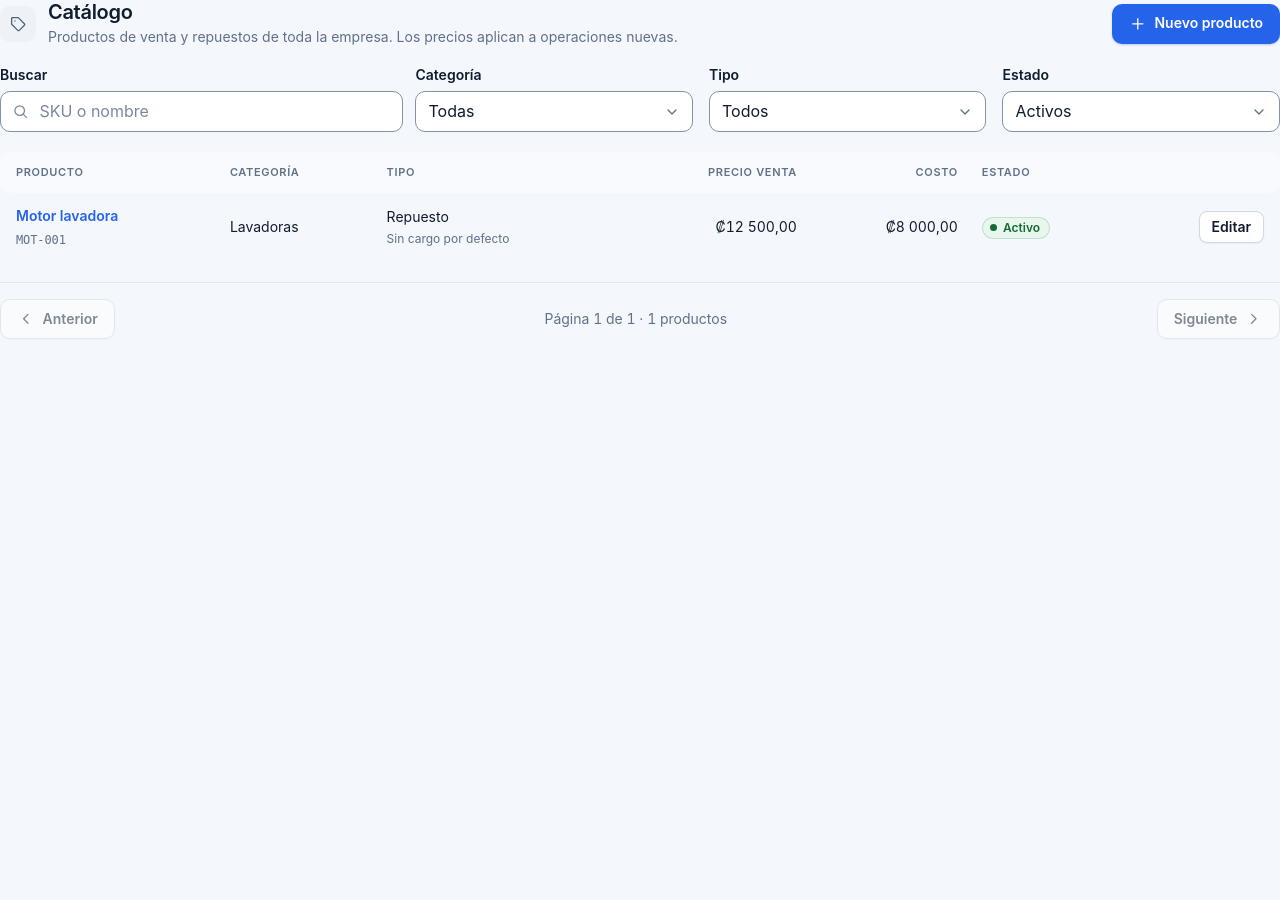
Scenario: CatalogPage pricing (BR-INV-007/008) › tells the administrator that a price change only affects new operations
Click the button "Editar" at (1231,227), box [1198,211,1264,243]
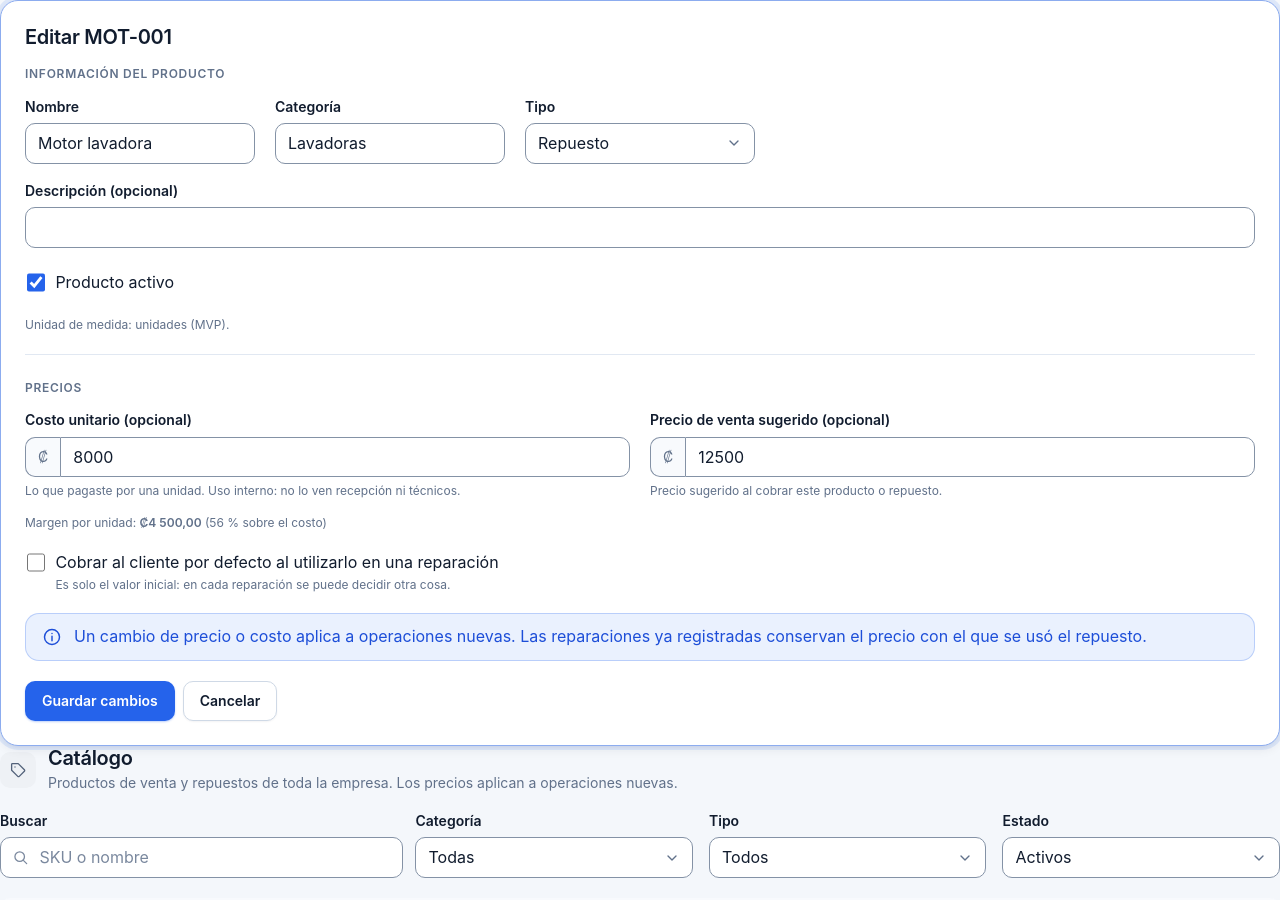
Result: the field labelled "Precio de venta sugerido (opcional)" holds "12500" at [685,437,1255,477]
Result: the text "aplica a operaciones nuevas" is shown at [74,626,1147,646]
